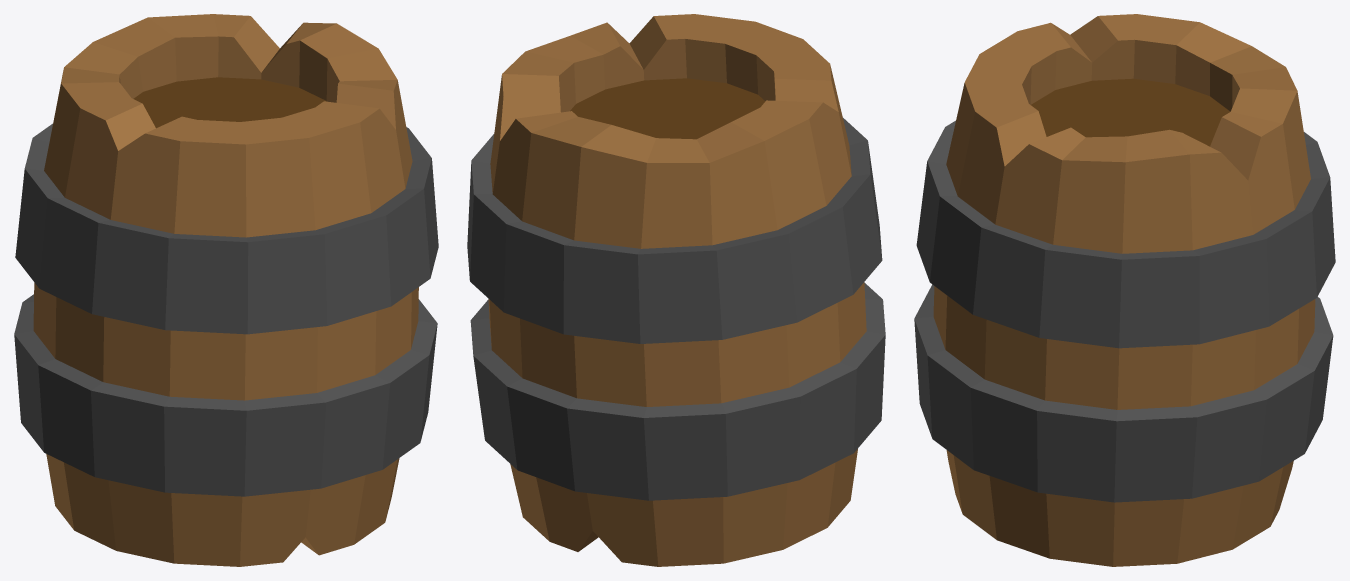
File: barrel.fbx
3 views of the same model, side by side, from view 1: azimuth 30°, elevation 25°; view 2: azimuth 150°, elevation 25°; view 3: azimuth 270°, elevation 25° (orthographic).
Parts seen in each view (by area): view 1: barrel.008; view 2: barrel.008; view 3: barrel.008.
Boxes of the visible parts, x1,y1,x2,y2 form: barrel.008: [14, 14, 438, 566]; barrel.008: [467, 14, 885, 566]; barrel.008: [914, 14, 1335, 566].
Bounding box in the file's own units: 14.66 × 16.17 × 14.65.
